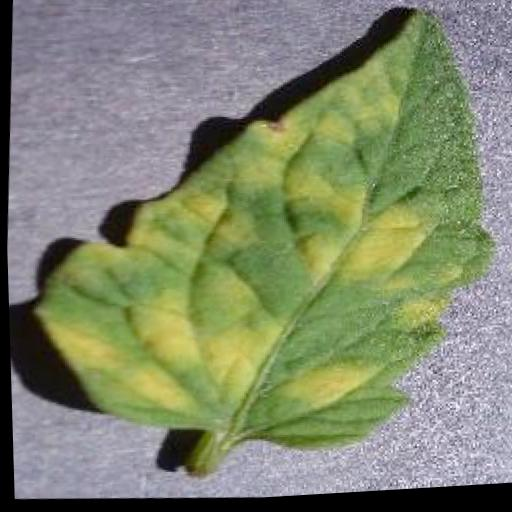Leaf Mold: (23, 0, 511, 479)
